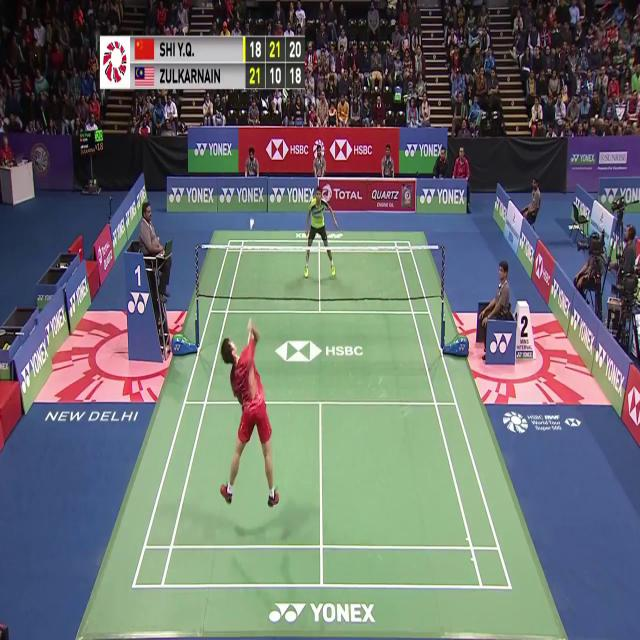Shuttlecock: (247, 223, 253, 234)
